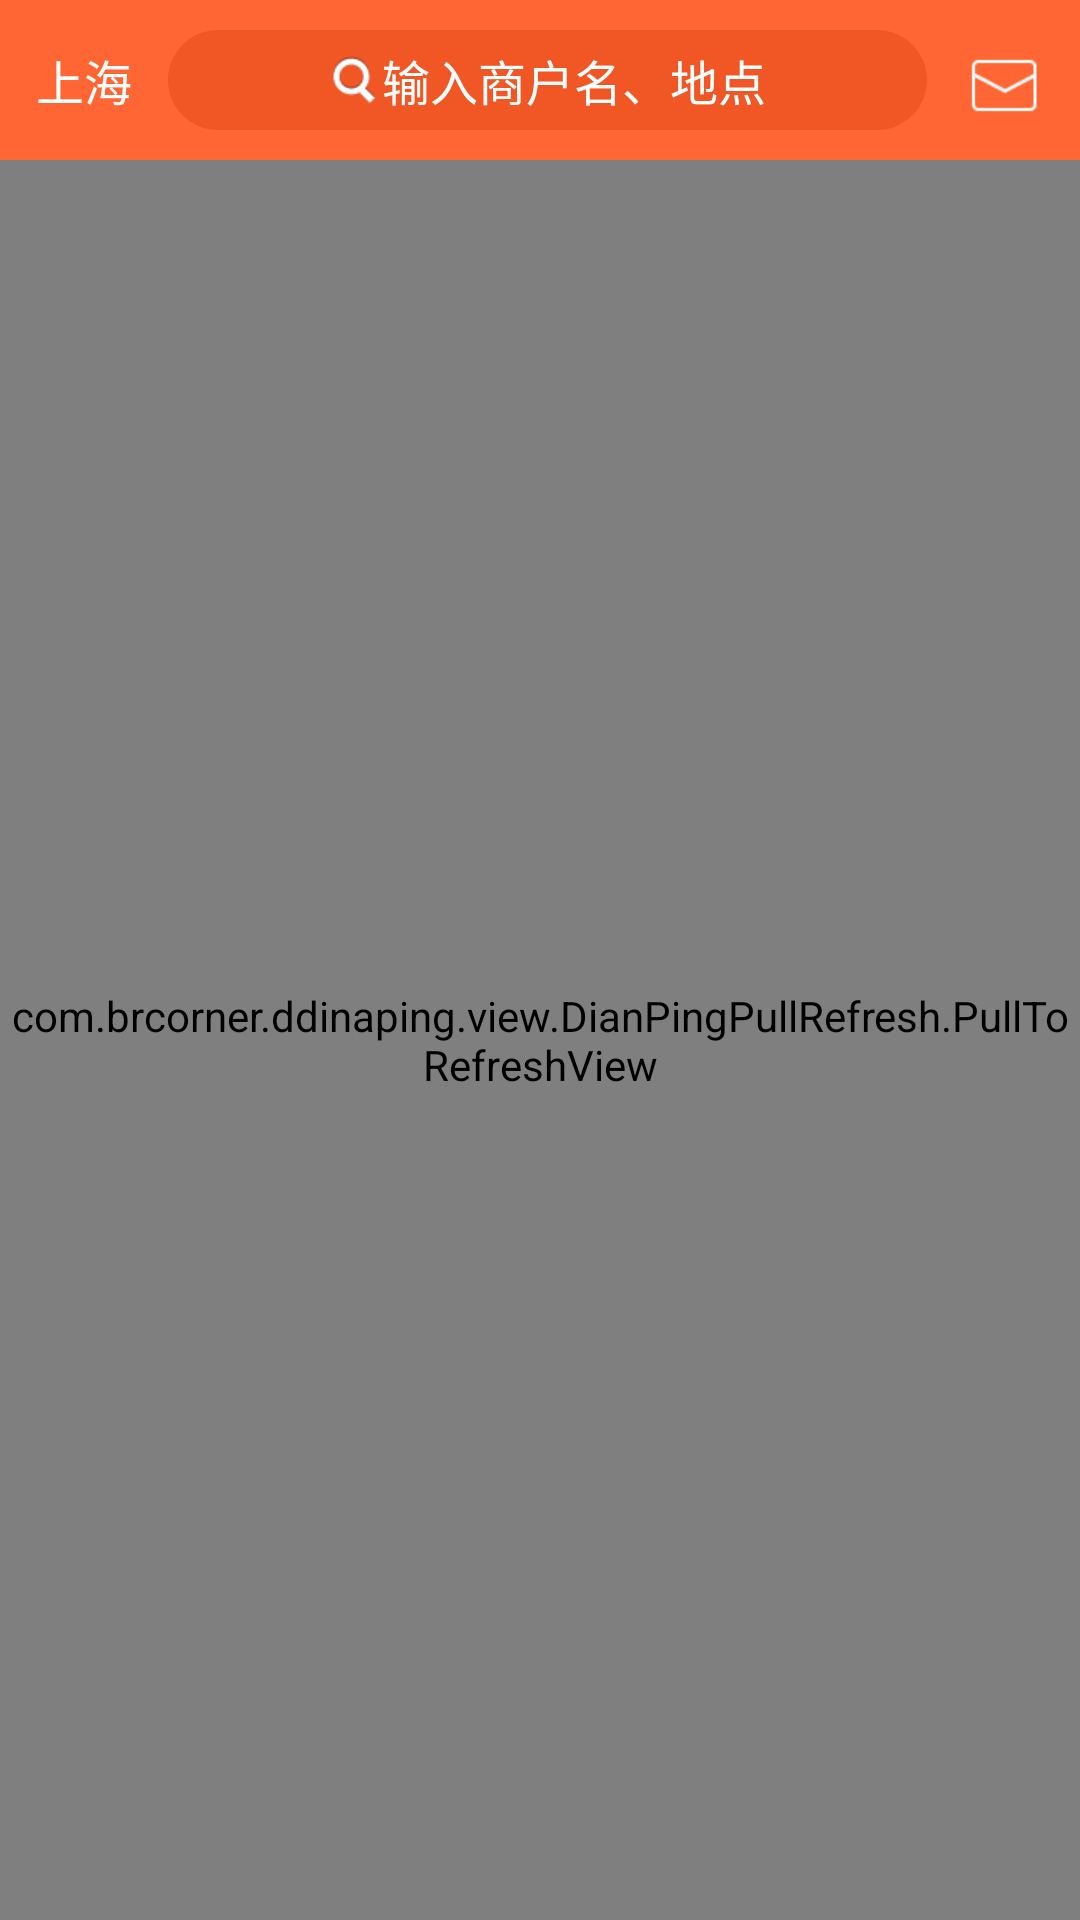

Icon bounding boxes for this 1080x1920 phone screenshot, format (x1, y1, x2, y2):
findmain mail off: (971, 59, 1037, 112)
